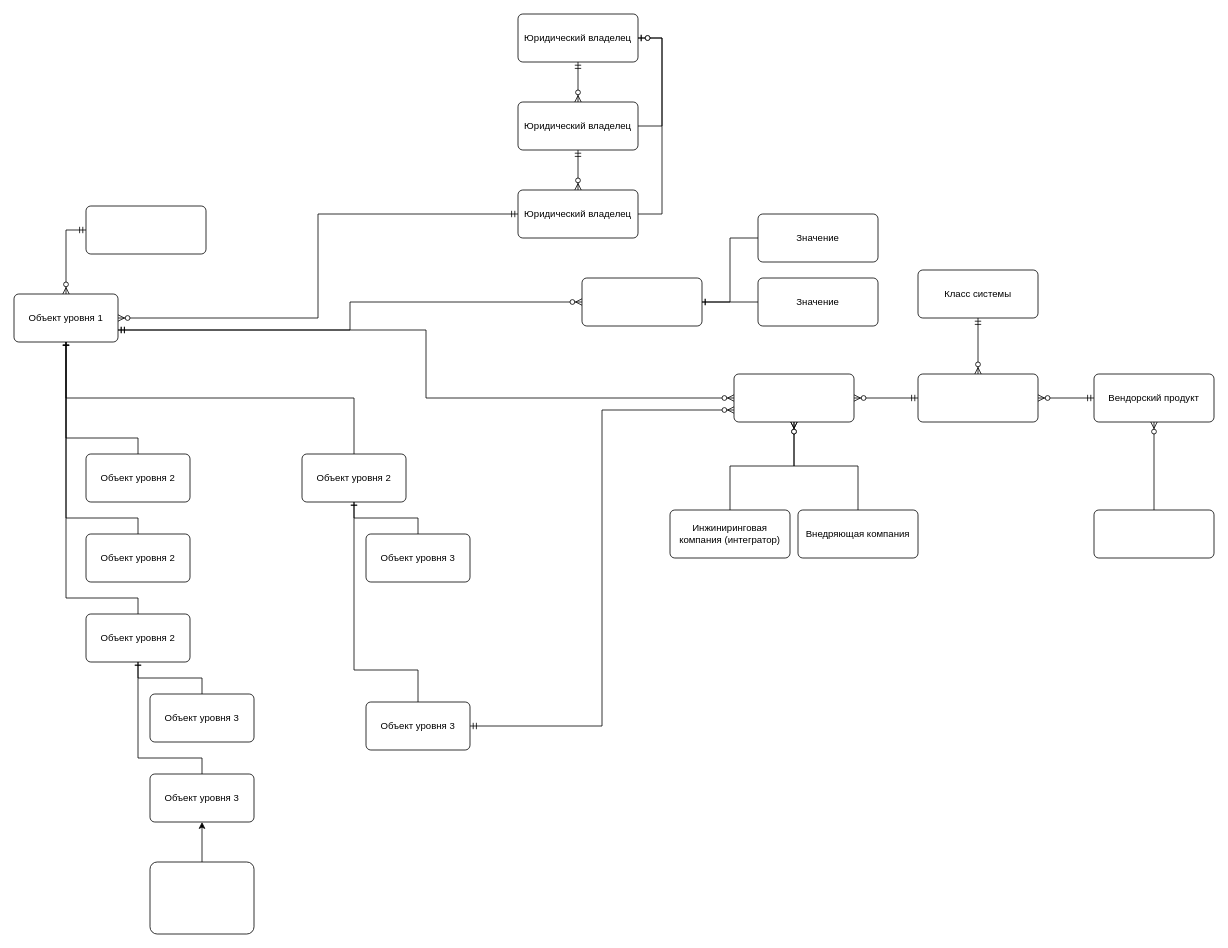
The diagram is 1228 pixels wide and 948 high, and some of its shapes have lost their labels. The centre of each missing label's shape, as x and y in pixels:
АСУТП средства измерения управляющие механизмы: (201,897)
Вендор: (1153,533)
Категория: (145,229)
Связь система-объект: (793,397)
Система автоматизации: (977,397)
Характеристика: (641,301)
